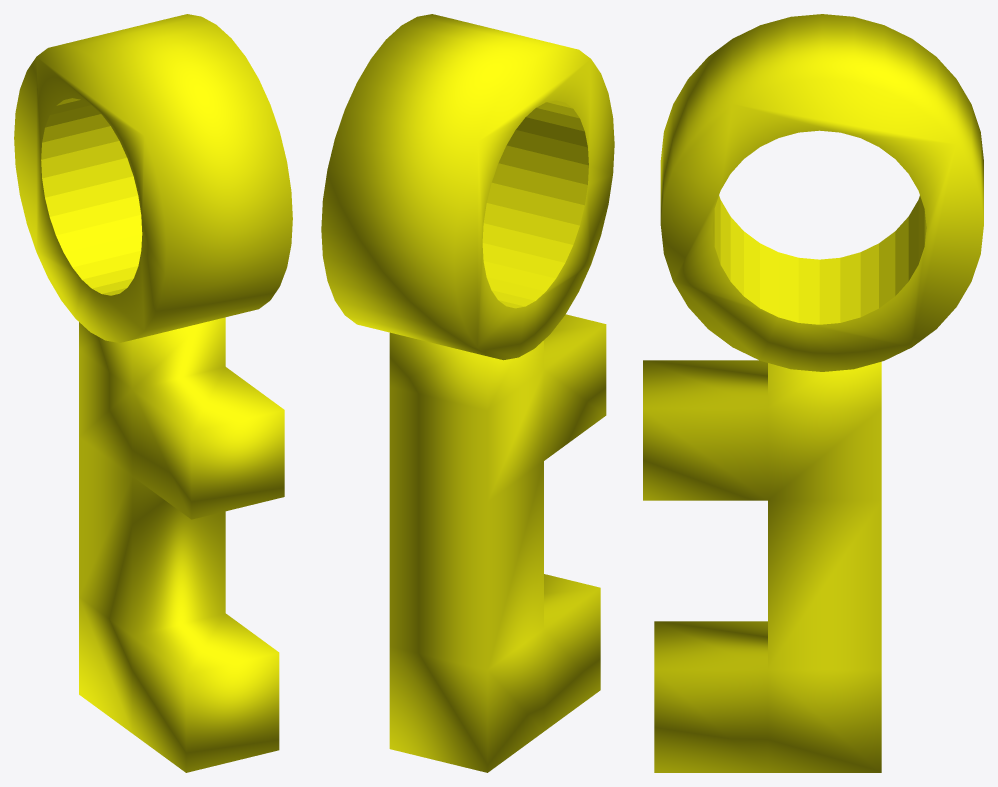
Rendered from Key.fbx.
3 renders of one model, left to right at view 1: azimuth 30°, elevation 25°; view 2: azimuth 150°, elevation 25°; view 3: azimuth 270°, elevation 25°, orthographic. The views are drawn at different scales.
Visible parts, largest first — view 1: Cube; view 2: Cube; view 3: Cube.
Boxes of the visible parts, x1=… form: Cube: x1=14, y1=14, x2=292, y2=772; Cube: x1=321, y1=14, x2=614, y2=772; Cube: x1=643, y1=14, x2=983, y2=772.
Size of the model in its own units: 271 by 1359 by 598.
